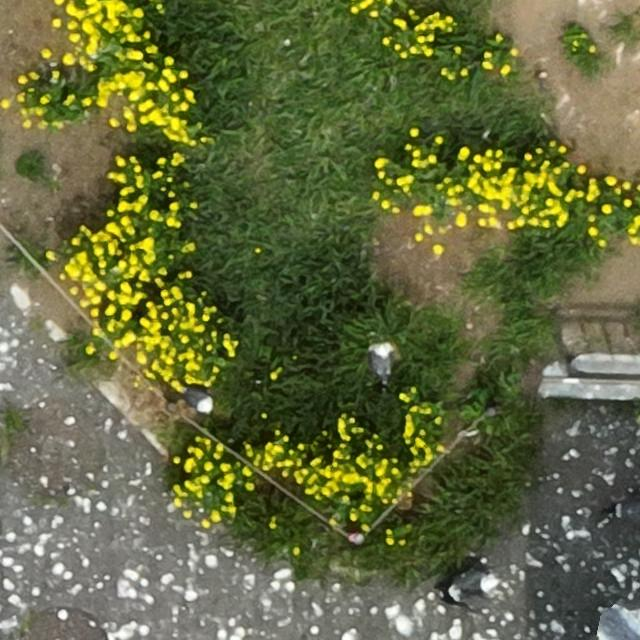umineko: (448, 568, 504, 609), (183, 389, 213, 413), (370, 346, 390, 380)
